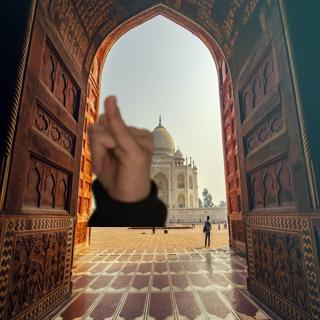HAVE: (80, 91, 163, 204)
